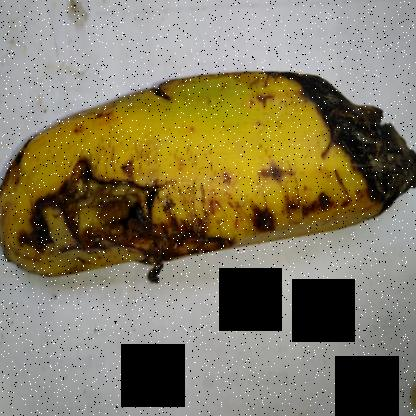ripe: (0, 59, 274, 316)
rotten: (3, 140, 230, 294), (265, 34, 415, 233)
